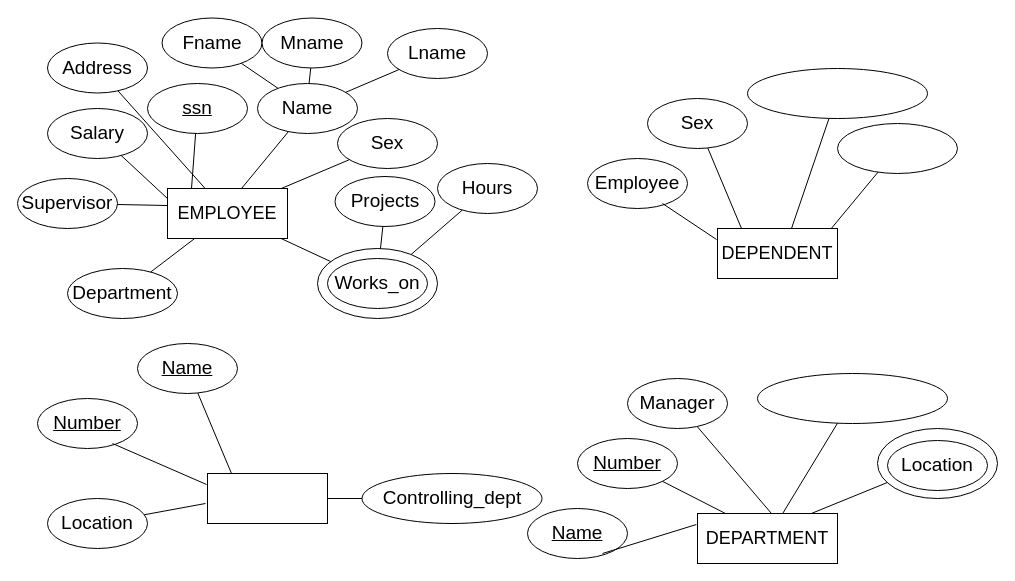
Image size: 1015x581. Some labels were removed from this diagram. The shapes that lost their labels are listed below. From the top down, each one's centre as x and y in pixels, then its label:
At (x=837, y=93): "Dependent_name".
At (x=897, y=148): "Relationship".
At (x=852, y=398): "Manager_start_date".
At (x=267, y=498): "PROJECT".
